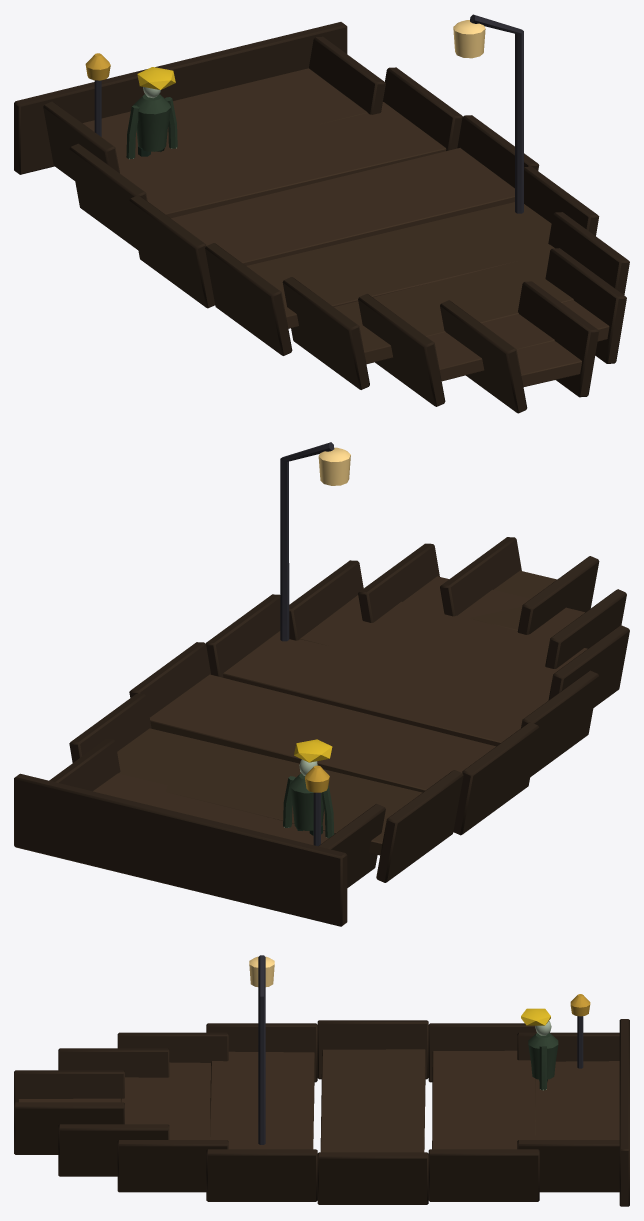
File: ferry.glb
The picture shows the model from 3 angles, top to bottom: view 1: azimuth 30°, elevation 25°; view 2: azimuth 150°, elevation 25°; view 3: azimuth 270°, elevation 25°; orthographic projection. The views are drawn at different scales.
Parts seen in each view (by area): view 1: ferry; view 2: ferry; view 3: ferry.
Part boxes in pixels (x1,y1,x2,y2): ferry: (14,14,629,413); ferry: (14,442,629,926); ferry: (14,955,629,1206).
Bounding box in the file's own units: 4.39 × 3.55 × 8.32.
